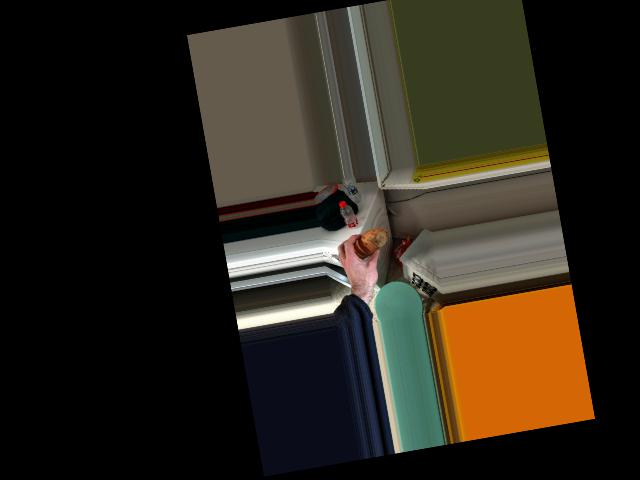sweet_potato: (352, 227, 384, 259)
